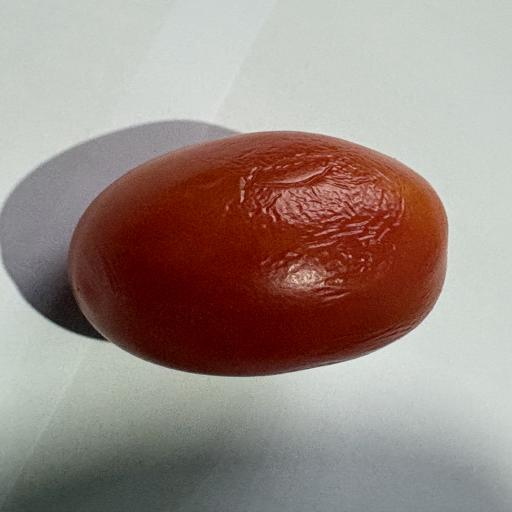spoiled: (69, 132, 447, 375)
